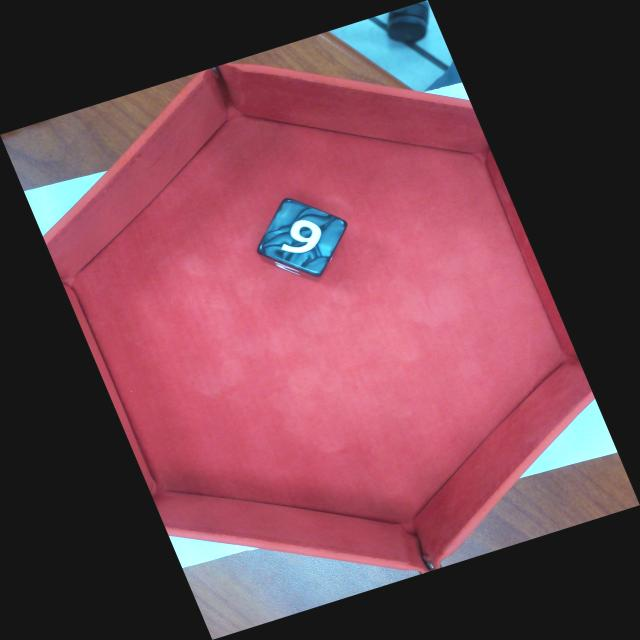dice: (255, 195, 352, 277)
